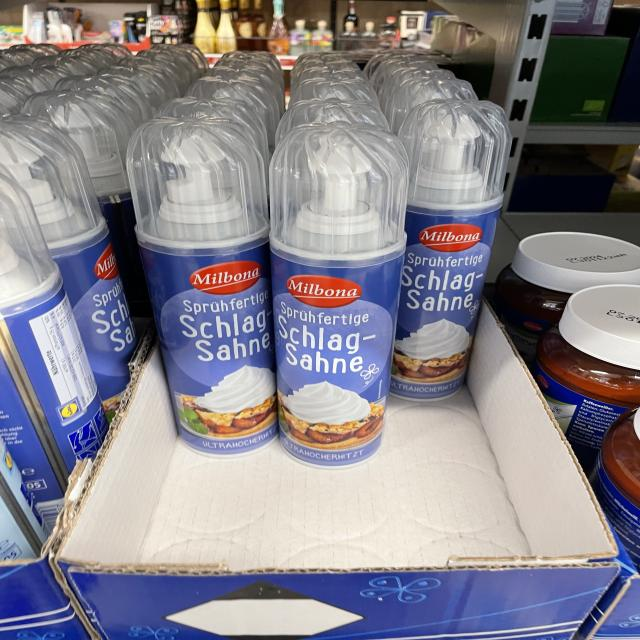cream: (126, 117, 277, 457), (270, 122, 408, 468), (0, 114, 136, 412), (0, 165, 106, 520), (391, 99, 511, 400), (20, 89, 151, 315), (476, 249, 479, 251)
